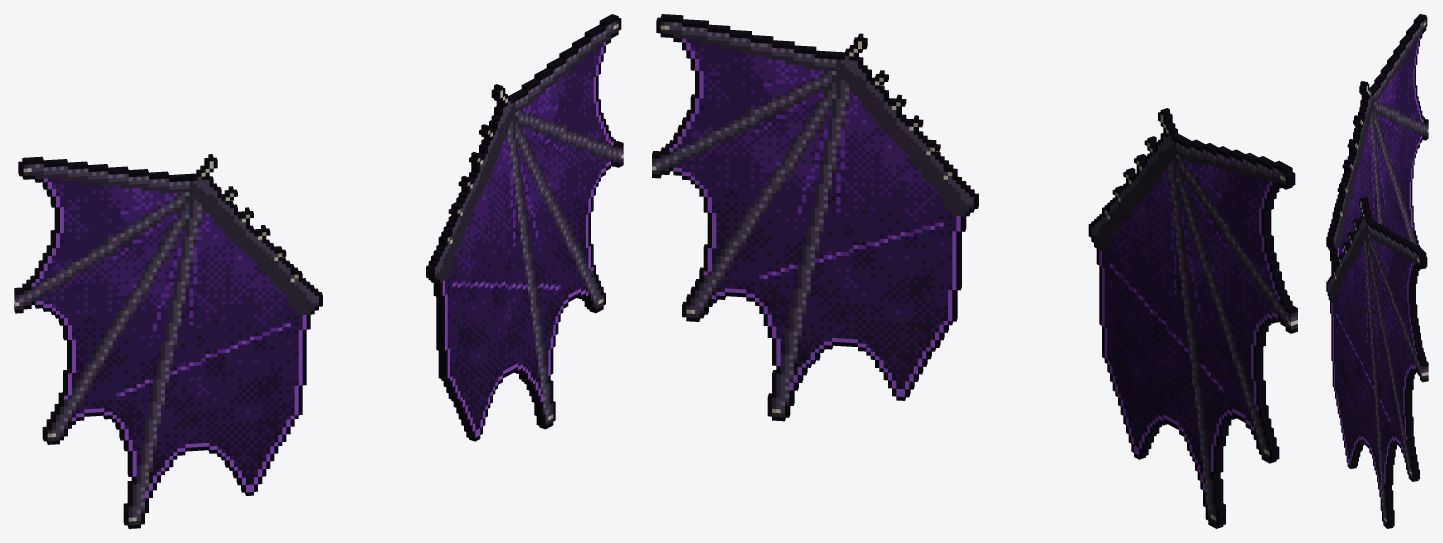
Rendered from void_dragon_wings.glb.
3 views of the same model, side by side, from view 1: azimuth 30°, elevation 25°; view 2: azimuth 150°, elevation 25°; view 3: azimuth 270°, elevation 25° (orthographic). The views are drawn at different scales.
Visible parts, largest first — view 1: Void Dragon Wing Left, Void Dragon Wing Right; view 2: Void Dragon Wing Right, Void Dragon Wing Left; view 3: Void Dragon Wing Right, Void Dragon Wing Left.
Part boxes in pixels (bbox=[...]): Void Dragon Wing Left: bbox=[14, 154, 322, 528]; Void Dragon Wing Right: bbox=[426, 14, 623, 441]; Void Dragon Wing Right: bbox=[652, 14, 978, 421]; Void Dragon Wing Left: bbox=[1088, 108, 1297, 528]; Void Dragon Wing Right: bbox=[1326, 197, 1428, 528]; Void Dragon Wing Left: bbox=[1326, 14, 1428, 274].
Size of the model in its own units: 2.69 by 1.58 by 0.4738.
Materials: 1 (1 with a texture image).
